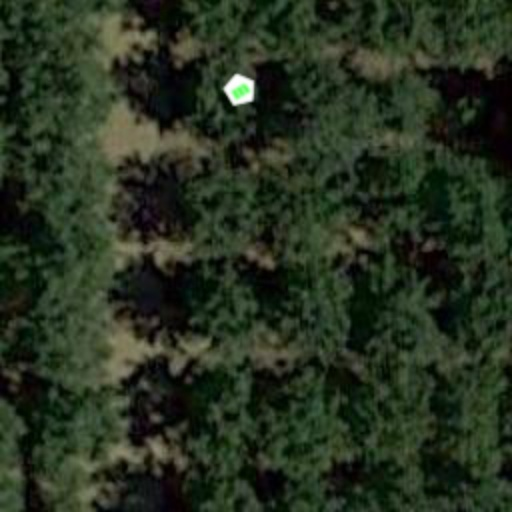pentagon: (216, 66, 264, 114)
